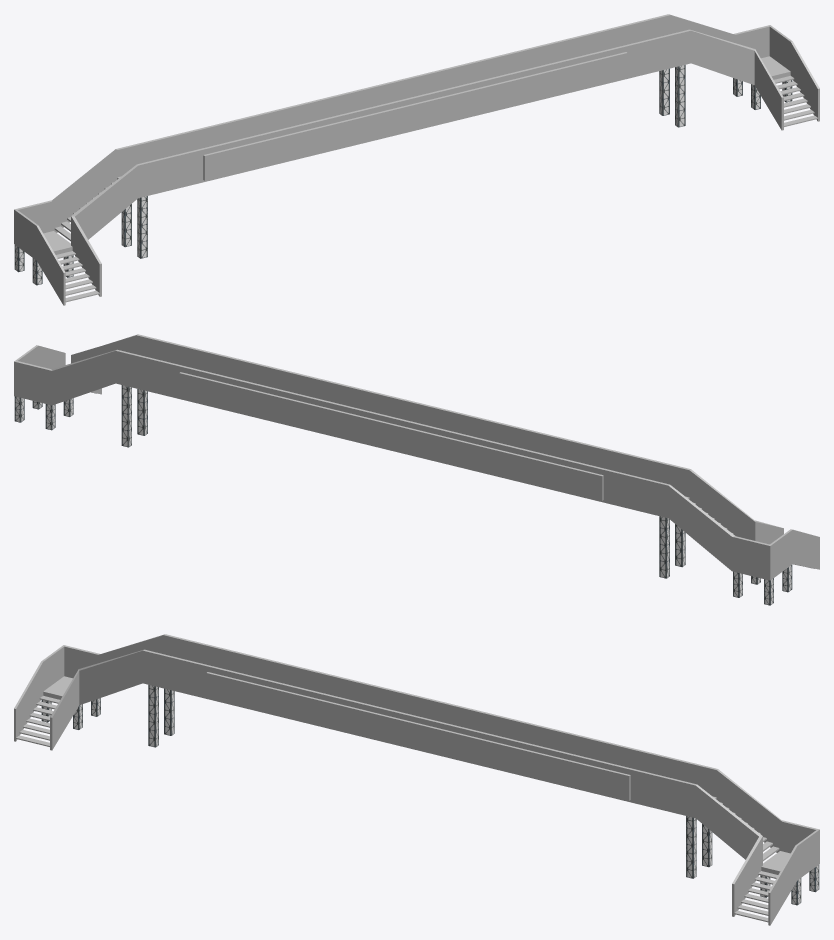
File: FootBridge-E-02.fbx
3 renders of one model, top to bottom at view 1: azimuth 30°, elevation 25°; view 2: azimuth 150°, elevation 25°; view 3: azimuth 330°, elevation 25°, orthographic.
Parts seen in each view (by area): view 1: FootBridge-D.001; view 2: FootBridge-D.001; view 3: FootBridge-D.001.
Part boxes in pixels (box(x1,y1,x2,y2)): FootBridge-D.001: box(14, 14, 819, 305); FootBridge-D.001: box(14, 334, 819, 605); FootBridge-D.001: box(14, 634, 819, 925).
Bounding box in the file's own units: 5804 × 701 × 679.
